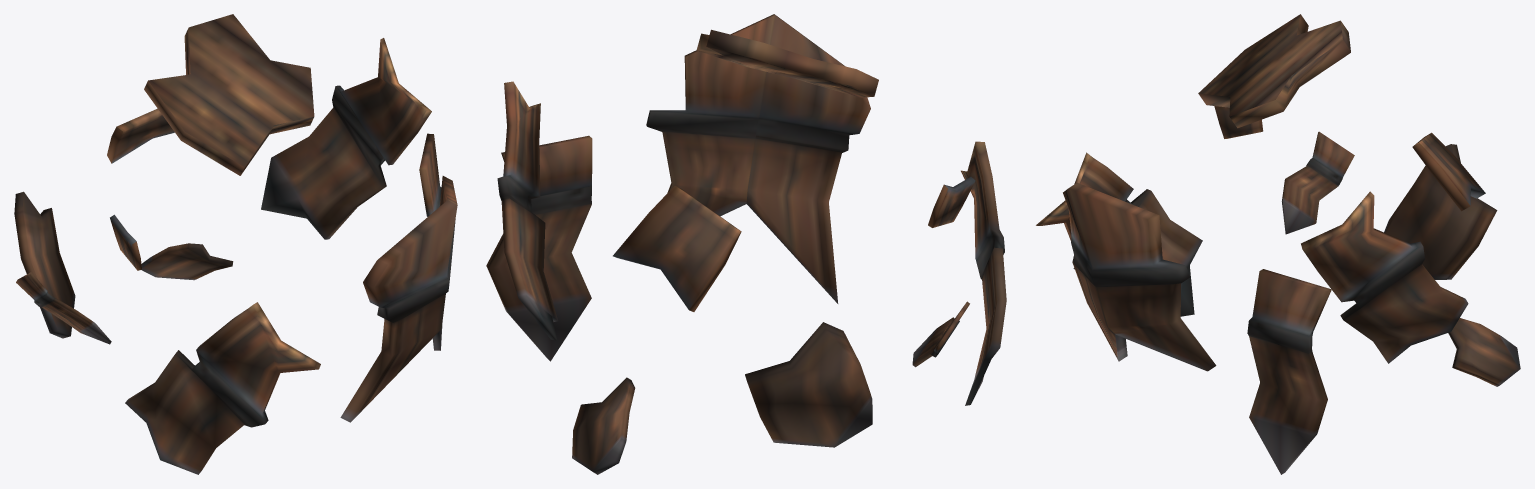
File: mutong_2.FBX
The picture shows the model from 3 angles, left to right: view 1: azimuth 30°, elevation 25°; view 2: azimuth 150°, elevation 25°; view 3: azimuth 270°, elevation 25°; orthographic projection. The views are drawn at different scales.
Parts seen in each view (by area): view 1: mutong_2; view 2: mutong_2; view 3: mutong_2.
Part boxes in pixels (x1,y1,x2,y2): mutong_2: (14,14,457,474); mutong_2: (486,14,1006,474); mutong_2: (1036,14,1520,474).
Bounding box in the file's own units: 61.84 × 49.66 × 62.46.
Materials: 1 (1 with a texture image).
